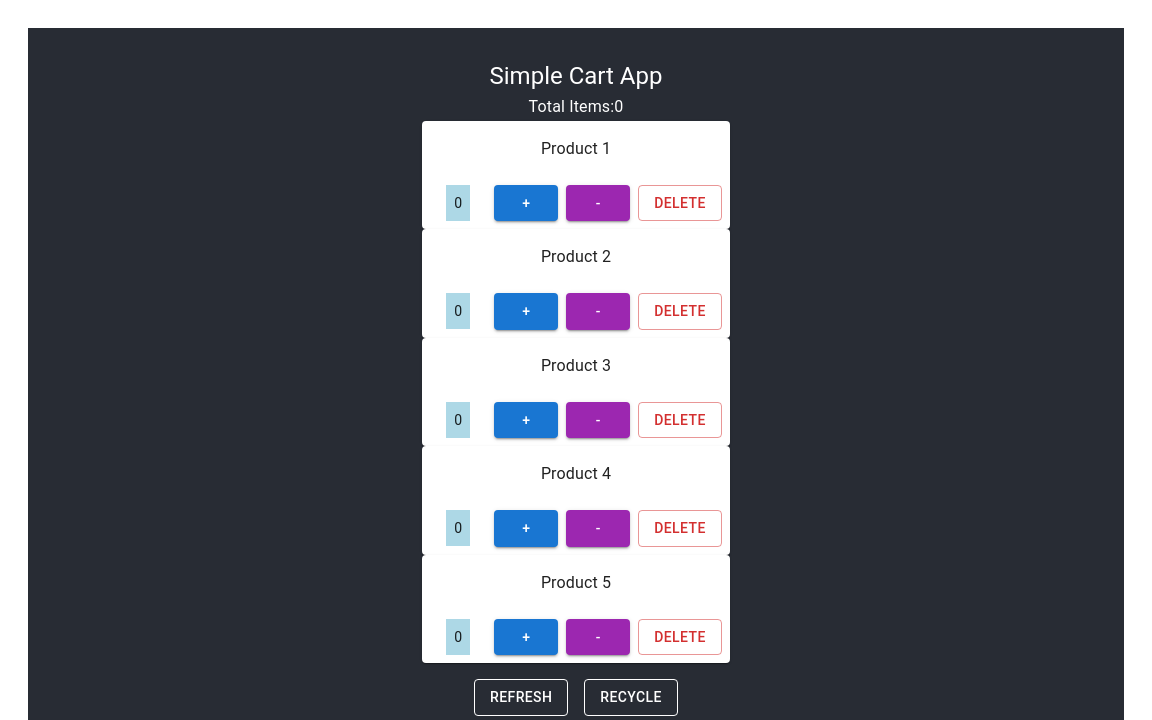
Test: Cart component › removes an item from the cart
Click the button "+" below "Product 1" at (526, 203), box left=494, top=184, right=558, bottom=221
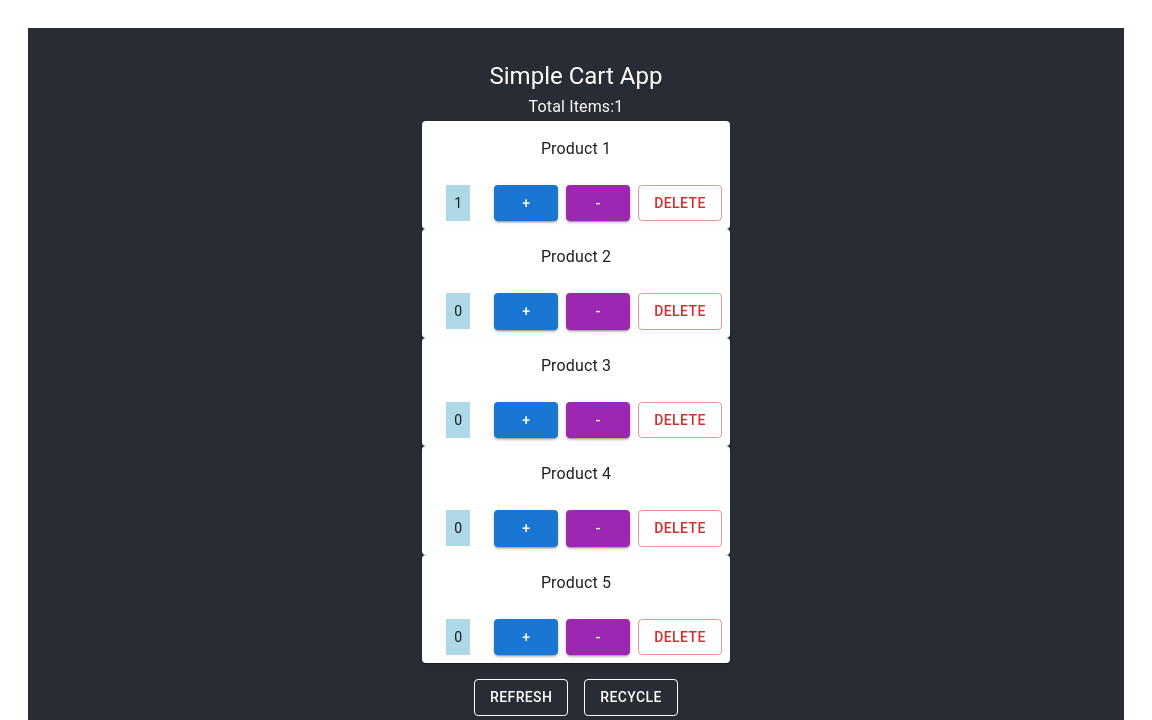
Click the button "-" below "Product 1" at (598, 203), box left=566, top=184, right=630, bottom=221
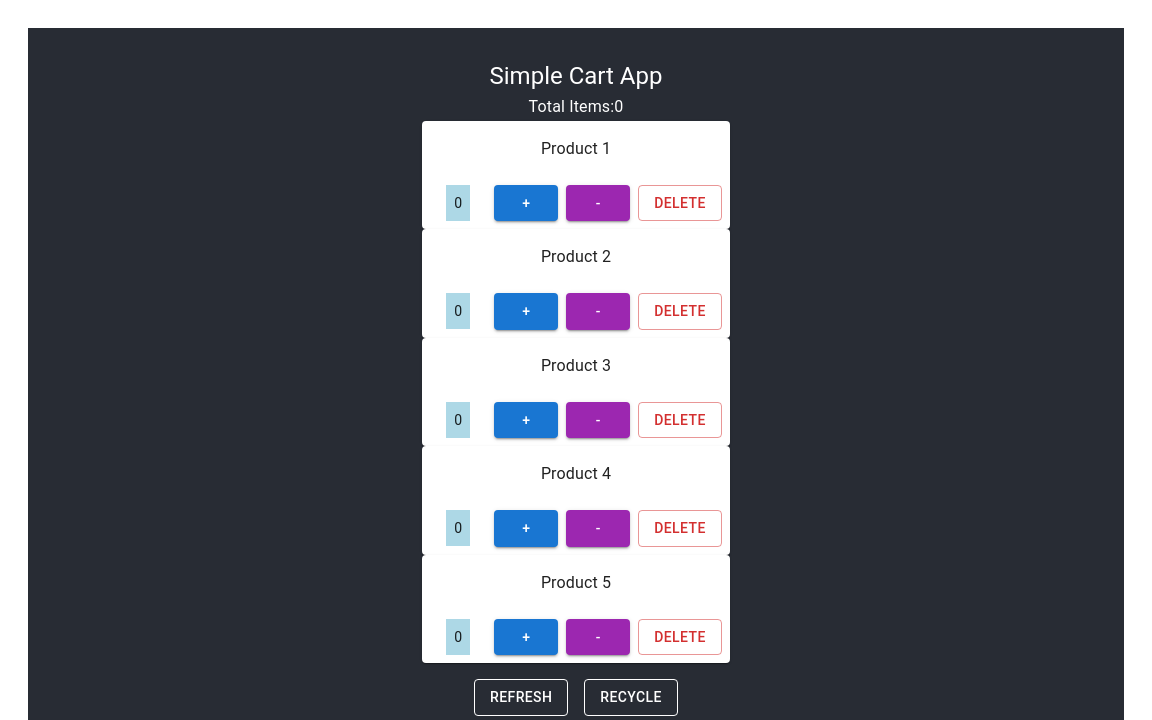
Expected: the heading with test id "total-items" reads "Total Items:0", left=528, top=92, right=623, bottom=120
